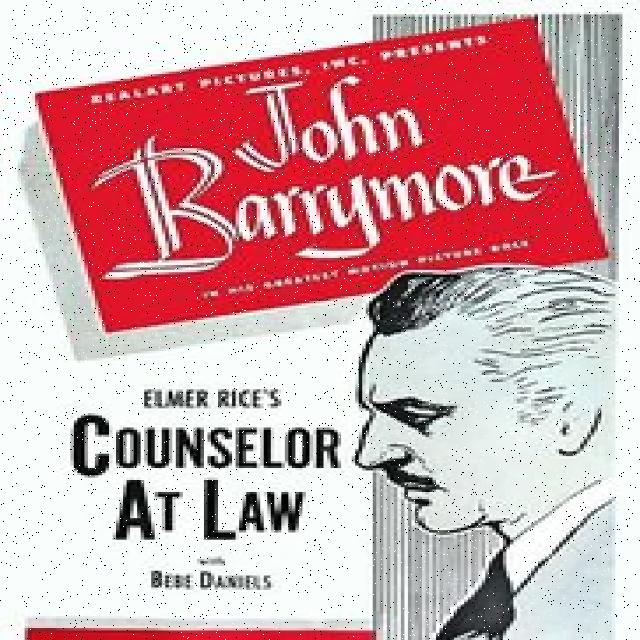movie-judul: (63, 410, 351, 553)
picture: (357, 270, 619, 638)
